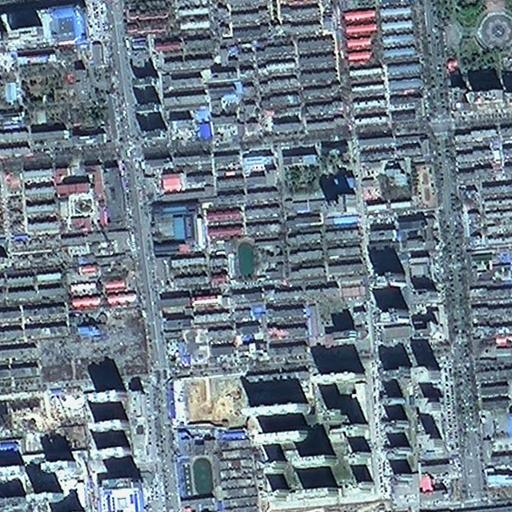school: (229, 235, 287, 286), (176, 453, 222, 510)
